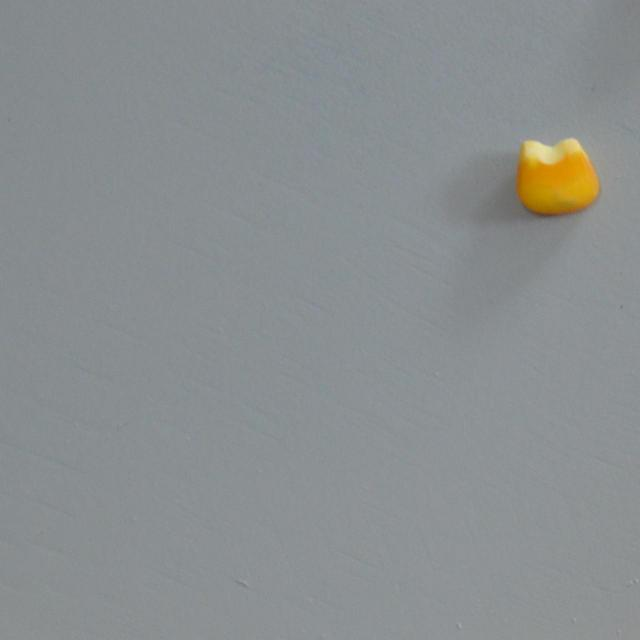no_canjicado: (516, 136, 599, 216)
